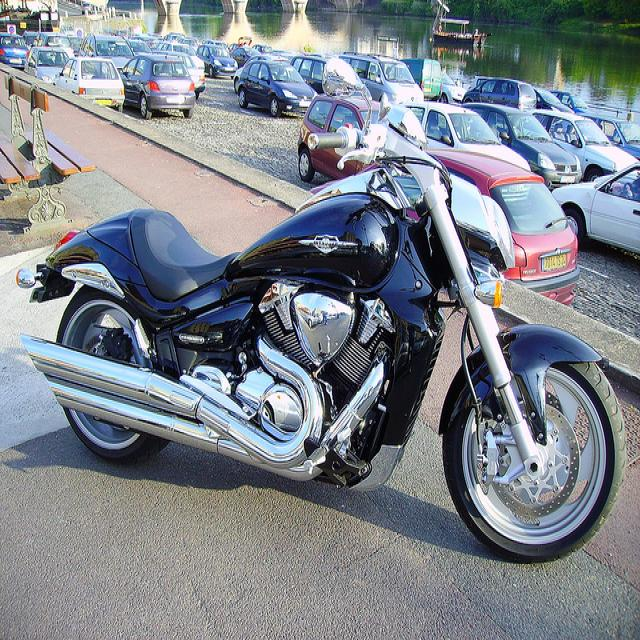motor: (13, 123, 630, 563)
